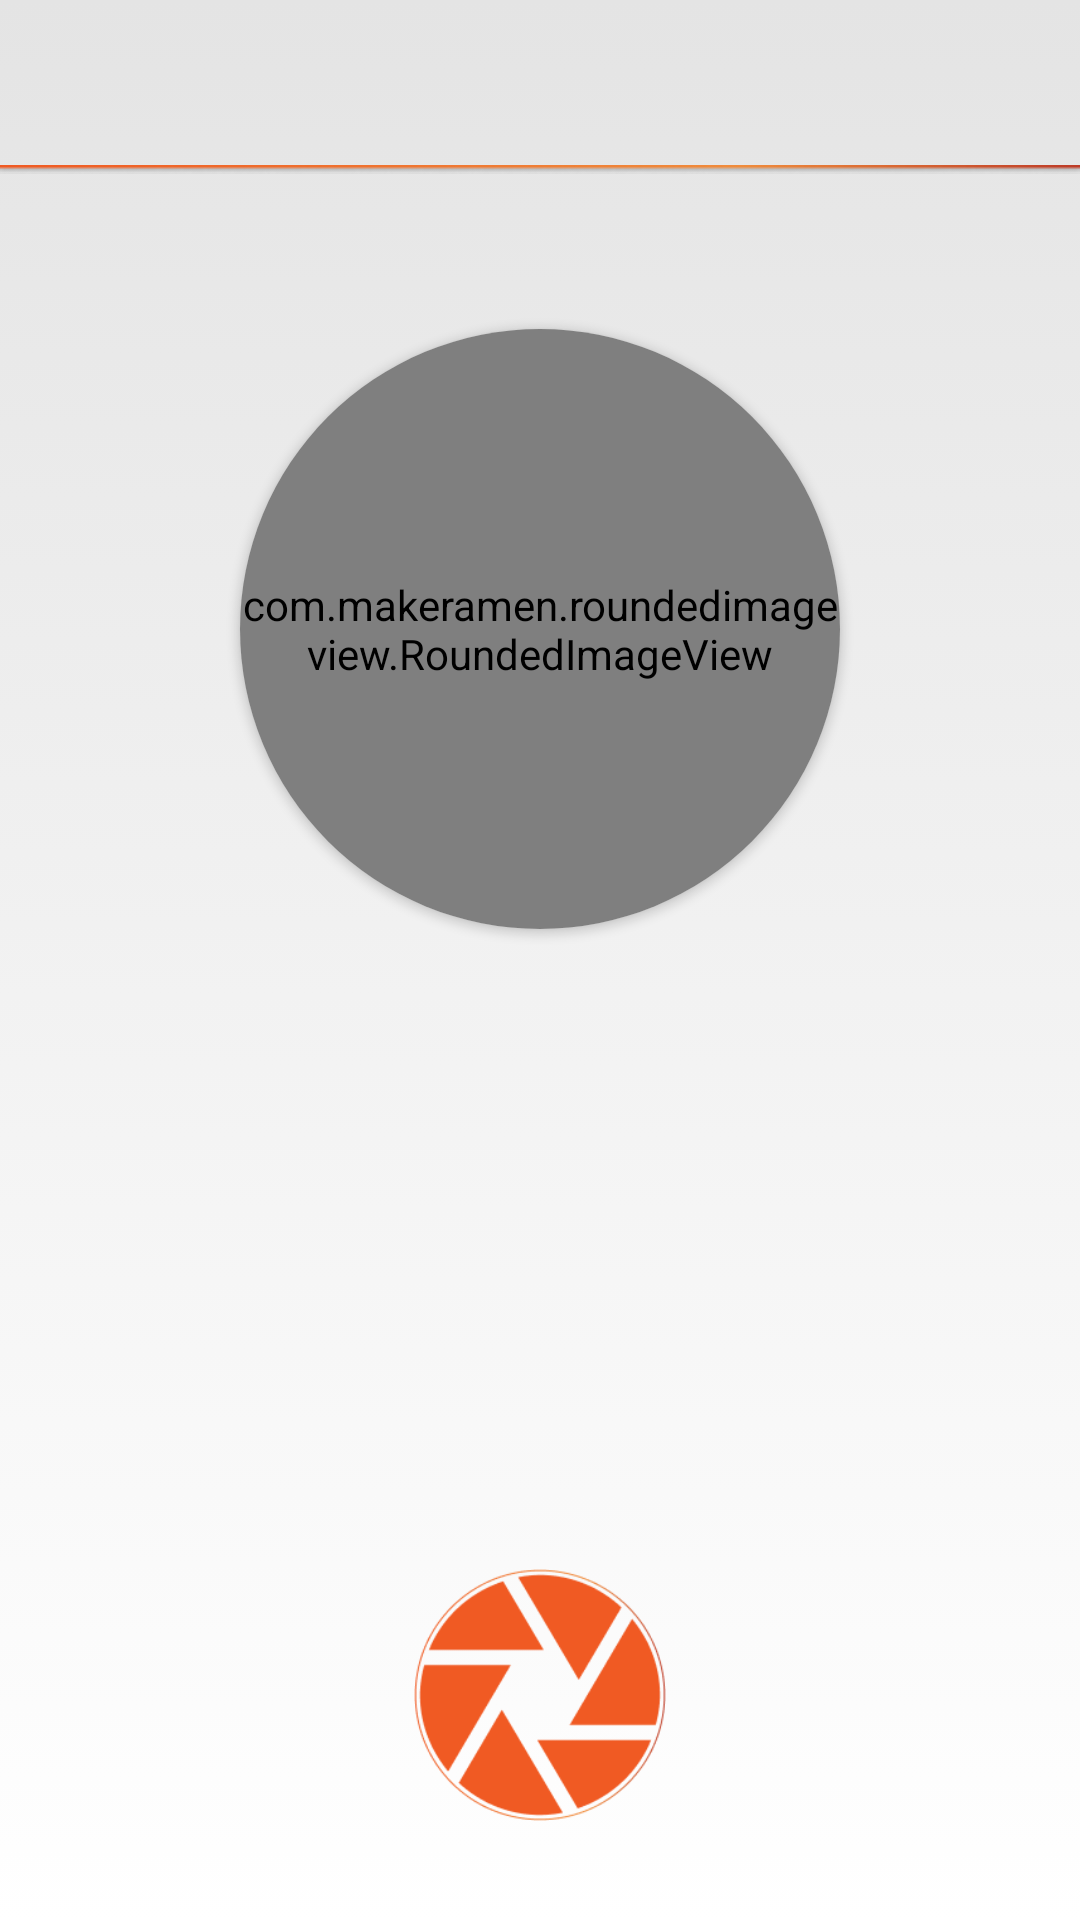

Icons on this 1080x1920 Android screen, each with the point to tap as (x,y):
camera: (540,1695)
